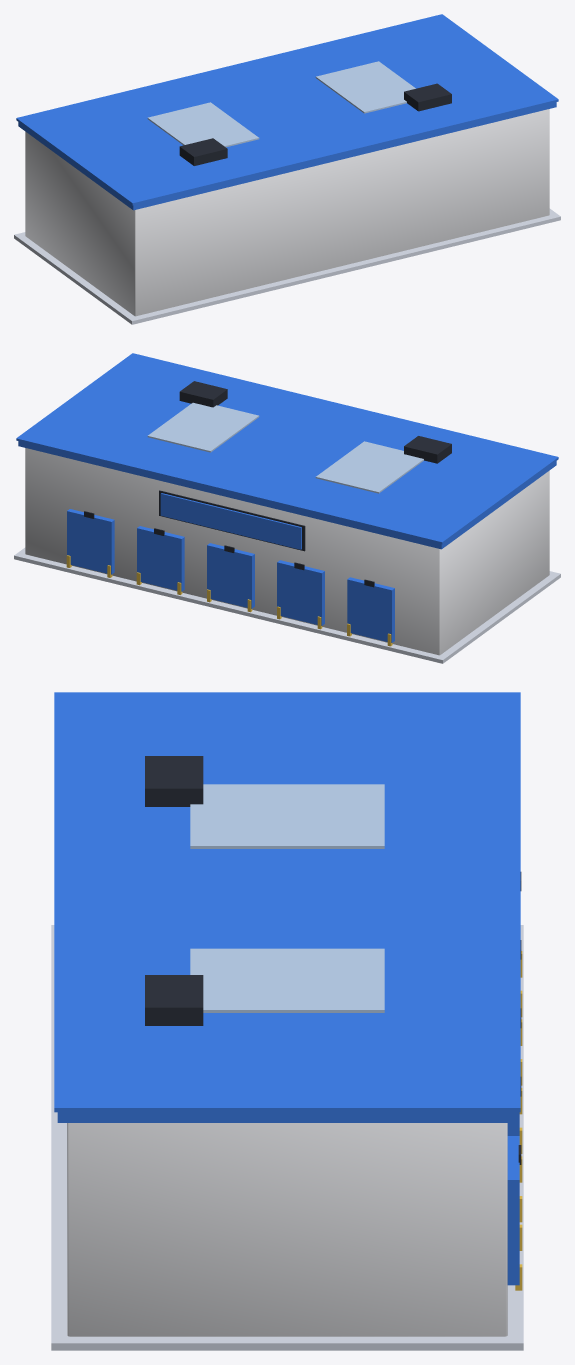
File: dc_warehouse.glb
3 views of the same model, one above another, from view 1: azimuth 30°, elevation 25°; view 2: azimuth 150°, elevation 25°; view 3: azimuth 270°, elevation 25° (orthographic). The views are drawn at different scales.
Parts seen in each view (by area): view 1: DC_Body, DC_RoofCoping, DC_Base, DC_Roof, DC_Skylight_6.0, DC_Skylight_-6.0, DC_RoofHVAC_1, DC_RoofHVAC_2; view 2: DC_RoofCoping, DC_Body, DC_Base, Signage, DC_Skylight_6.0, DC_Skylight_-6.0, DC_Roof, DC_DockFrame_1, DC_DockFrame_2, DC_DockFrame_3, DC_DockFrame_5, DC_DockFrame_4 (+3 smaller); view 3: DC_RoofCoping, DC_Body, DC_Base, DC_Skylight_-6.0, DC_Skylight_6.0, DC_Roof, DC_RoofHVAC_2, DC_RoofHVAC_1, DC_DockFrame_5.
Boxes of the visible parts, x1,y1,x2,y2 form: DC_Body: (25, 109, 549, 316); DC_RoofCoping: (16, 14, 558, 205); DC_Base: (14, 208, 560, 324); DC_Roof: (18, 102, 556, 210); DC_Skylight_6.0: (315, 61, 415, 113); DC_Skylight_-6.0: (147, 102, 259, 147); DC_RoofHVAC_1: (179, 138, 227, 165); DC_RoofHVAC_2: (404, 83, 451, 111); DC_RoofCoping: (16, 353, 558, 544); DC_Body: (25, 448, 549, 655); DC_Base: (14, 547, 560, 663); Signage: (160, 493, 301, 549); DC_Skylight_6.0: (147, 402, 259, 452); DC_Skylight_-6.0: (315, 441, 423, 493); DC_Roof: (18, 441, 556, 549); DC_DockFrame_1: (347, 577, 394, 642); DC_DockFrame_2: (277, 560, 324, 625); DC_DockFrame_3: (207, 543, 254, 608); DC_DockFrame_5: (67, 509, 114, 574); DC_DockFrame_4: (137, 526, 184, 591); DC_RoofCoping: (54, 692, 520, 1112); DC_Body: (67, 1123, 507, 1336); DC_Base: (51, 925, 523, 1350); DC_Skylight_-6.0: (190, 784, 384, 848); DC_Skylight_6.0: (190, 948, 384, 1012); DC_Roof: (57, 1112, 517, 1122); DC_RoofHVAC_2: (145, 975, 203, 1025); DC_RoofHVAC_1: (145, 756, 203, 806); DC_DockFrame_5: (507, 1136, 519, 1285).
Bounding box in the file's own units: 30.6 × 8.85 × 14.6.
